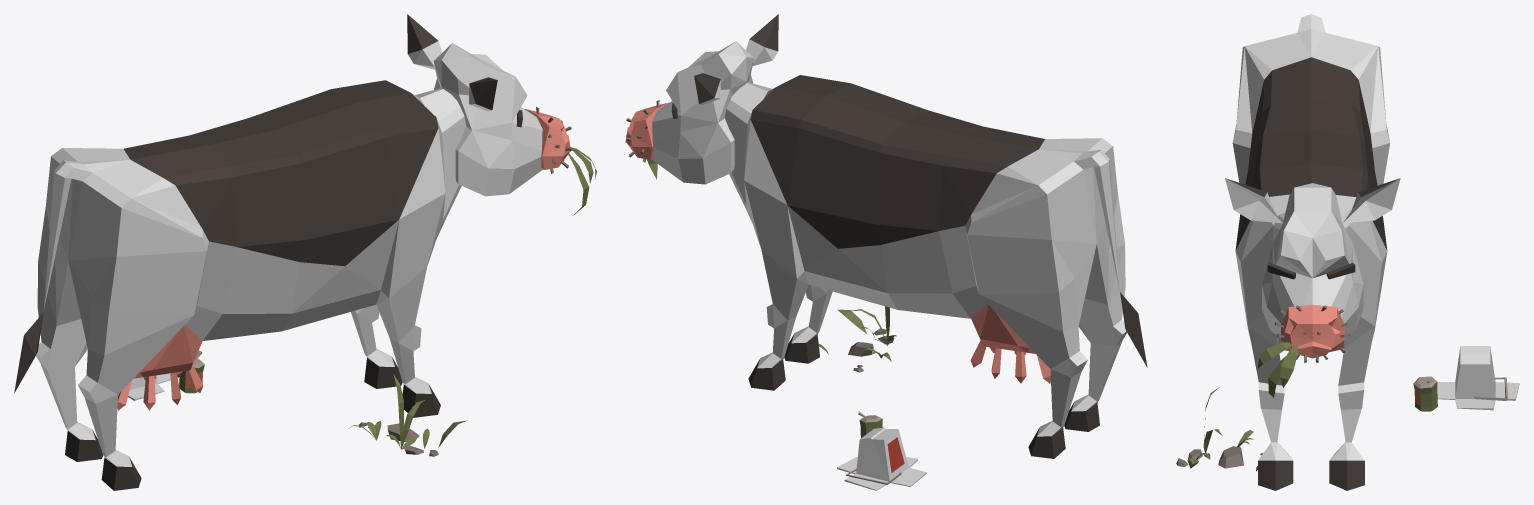
File: cow.glb
3 views of the same model, side by side, from view 1: azimuth 30°, elevation 25°; view 2: azimuth 150°, elevation 25°; view 3: azimuth 270°, elevation 25° (orthographic). The views are drawn at different scales.
Parts seen in each view (by area): view 1: cow, cowhead, Cube.051, Plane.069; view 2: cow, cowhead, takeout box, Cube.051; view 3: cow, cowhead, takeout box, Cube.051, Cylinder, crack.001, Cube.052, Plane.077.
Part boxes in pixels (x1,y1,x2,y2): cow: [14, 80, 466, 490]; cowhead: [407, 14, 570, 196]; Cube.051: [525, 109, 570, 169]; Plane.069: [386, 374, 425, 449]; cow: [725, 75, 1147, 458]; cowhead: [625, 14, 778, 184]; takeout box: [837, 427, 926, 490]; Cube.051: [626, 102, 668, 159]; cow: [1232, 14, 1390, 490]; cowhead: [1225, 178, 1400, 358]; takeout box: [1437, 346, 1519, 410]; Cube.051: [1281, 304, 1344, 351]; Cylinder: [1413, 376, 1437, 411]; crack.001: [1176, 446, 1262, 468]; Cube.052: [1267, 263, 1355, 279]; Plane.077: [1280, 346, 1298, 387].
Bounding box in the file's own units: 3.17 × 1.79 × 1.7.
